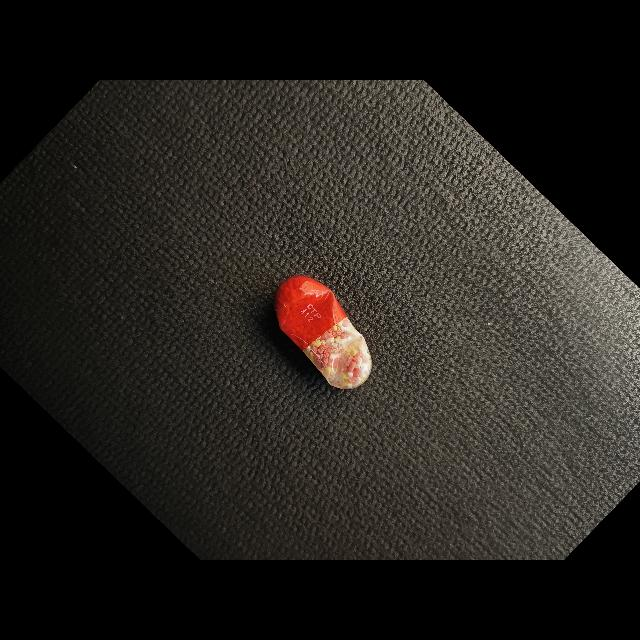Defective Capsule: (275, 276, 372, 389)
